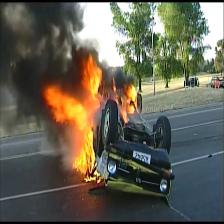fire: (50, 56, 145, 182)
smoke: (1, 5, 124, 134)
